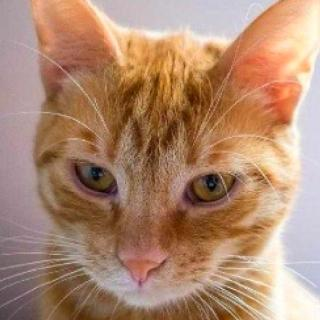cat: (25, 0, 312, 311)
nose: (111, 211, 180, 288)
